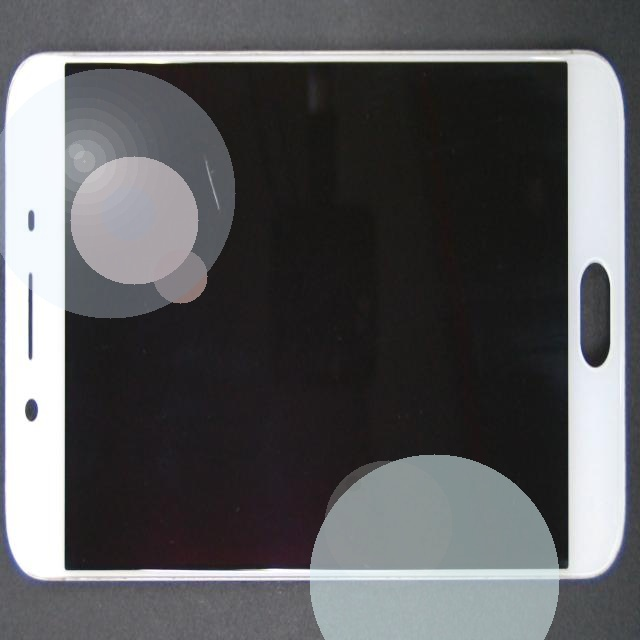scratch: (128, 147, 329, 283)
